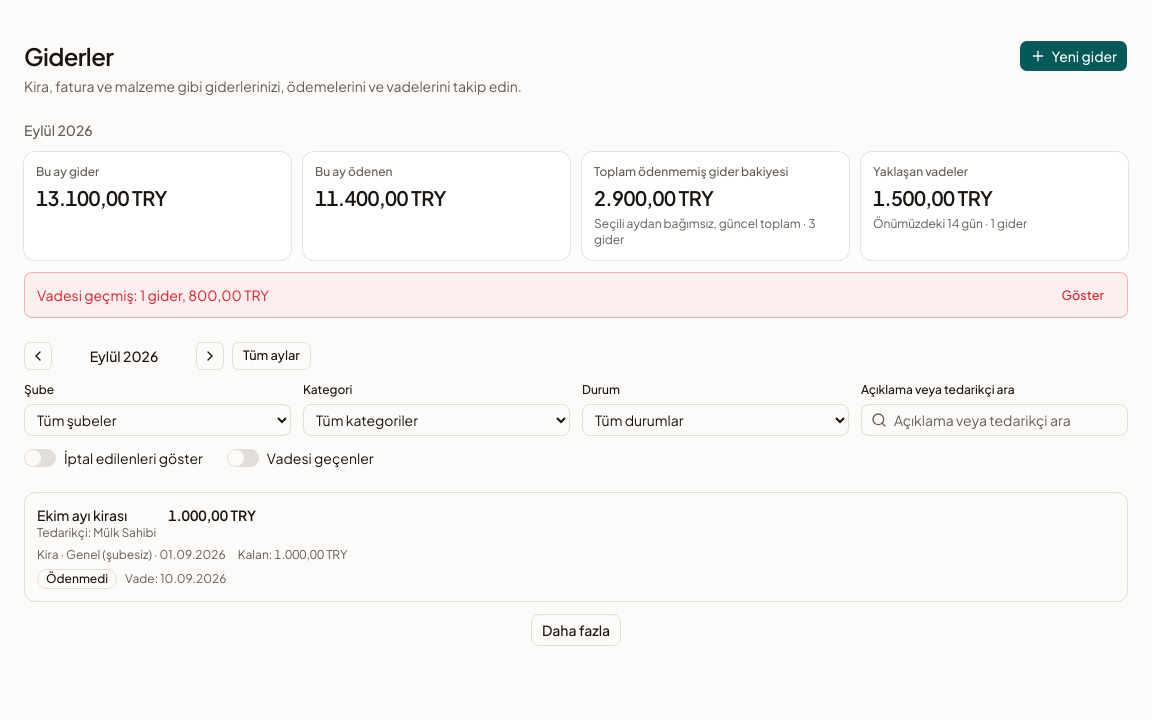
Test: F7 the page is read-only › 'Daha fazla' reads the next keyset page and appends it
This screenshot has width=1152, height=720.
Click the button "Daha fazla".
click(576, 630)  # box left=531, top=614, right=621, bottom=646
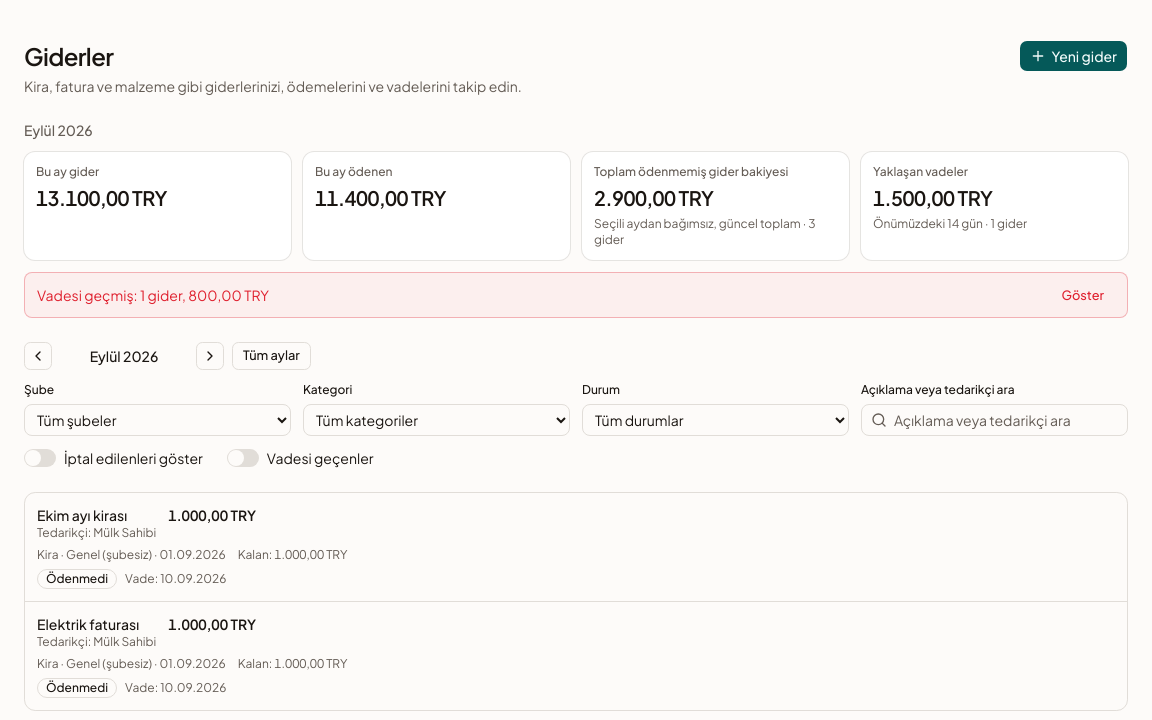
Expected: the text "Ekim ayı kirası" is shown, left=37, top=506, right=127, bottom=524
Result: the text "Elektrik faturası" is shown at left=37, top=614, right=156, bottom=634
Result: the button "Daha fazla" is gone
